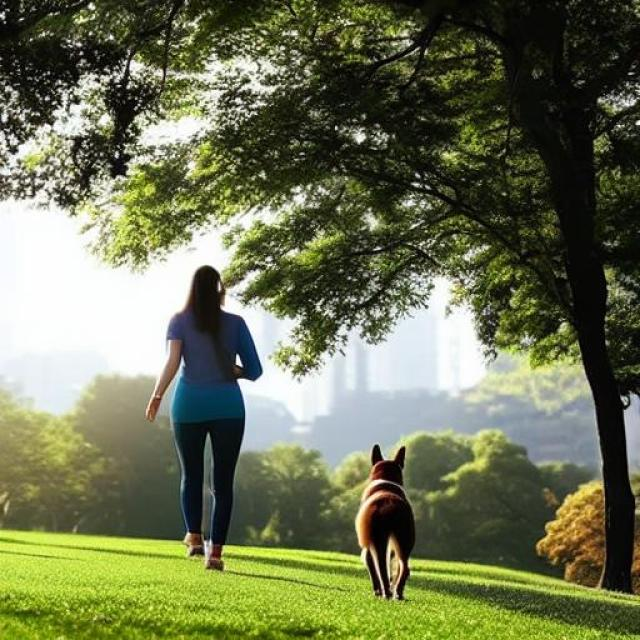Unleashed_Dog: (178, 392, 417, 600)
